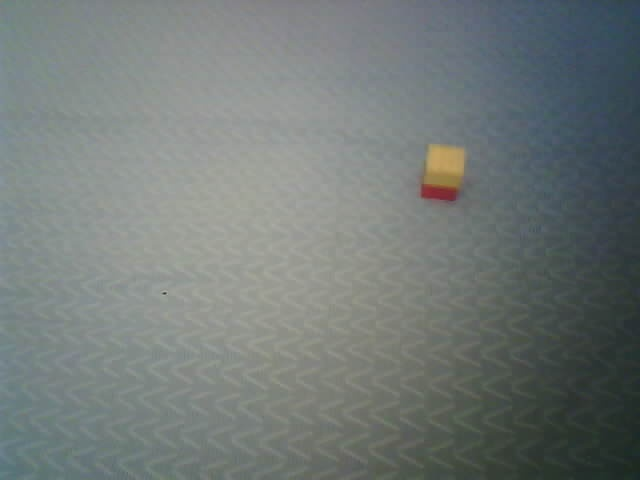lego: (419, 142, 466, 203)
